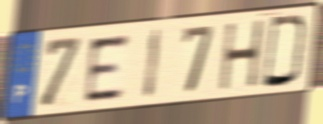7: (42, 37, 83, 112), (179, 24, 218, 96)
D: (260, 14, 310, 90)
E: (83, 31, 131, 105)
H: (218, 17, 267, 94)
I: (142, 26, 165, 101)
